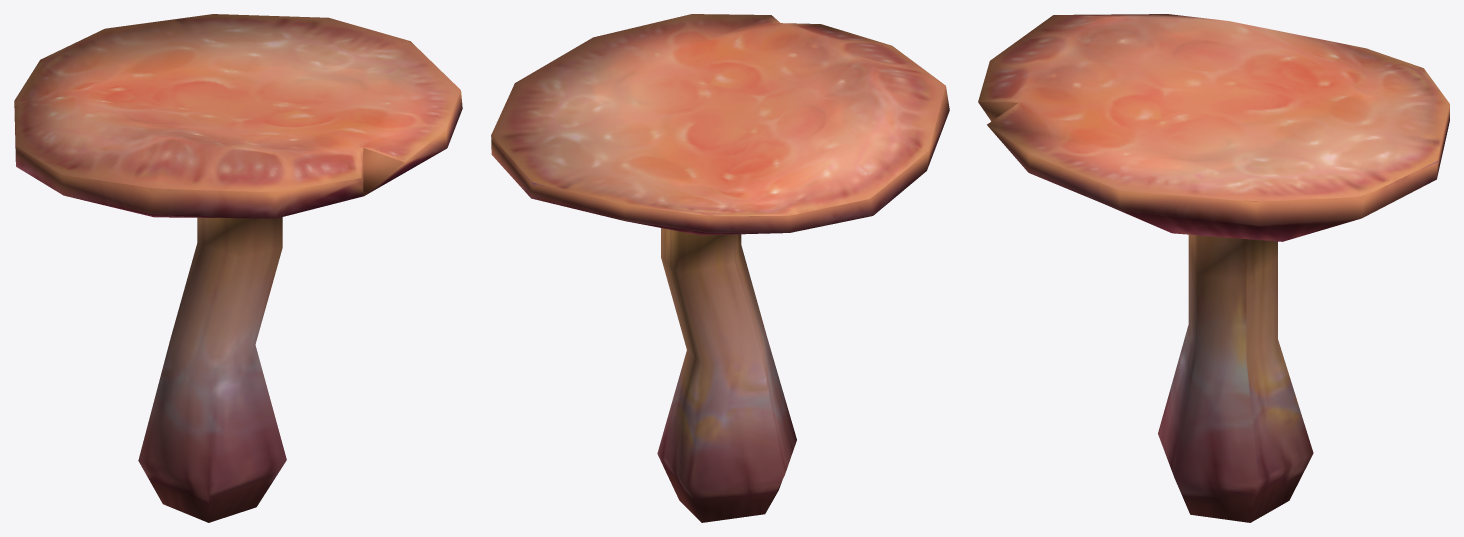
File: map_mg05.fbx
3 views of the same model, side by side, from view 1: azimuth 30°, elevation 25°; view 2: azimuth 150°, elevation 25°; view 3: azimuth 270°, elevation 25° (orthographic). The views are drawn at different scales.
Visible parts, largest first — view 1: map_mg05; view 2: map_mg05; view 3: map_mg05.
Boxes of the visible parts, bbox=[...] form: map_mg05: bbox=[14, 14, 462, 522]; map_mg05: bbox=[491, 14, 949, 522]; map_mg05: bbox=[978, 14, 1449, 522].
Bounding box in the file's own units: 4.74 × 4.96 × 4.86.
